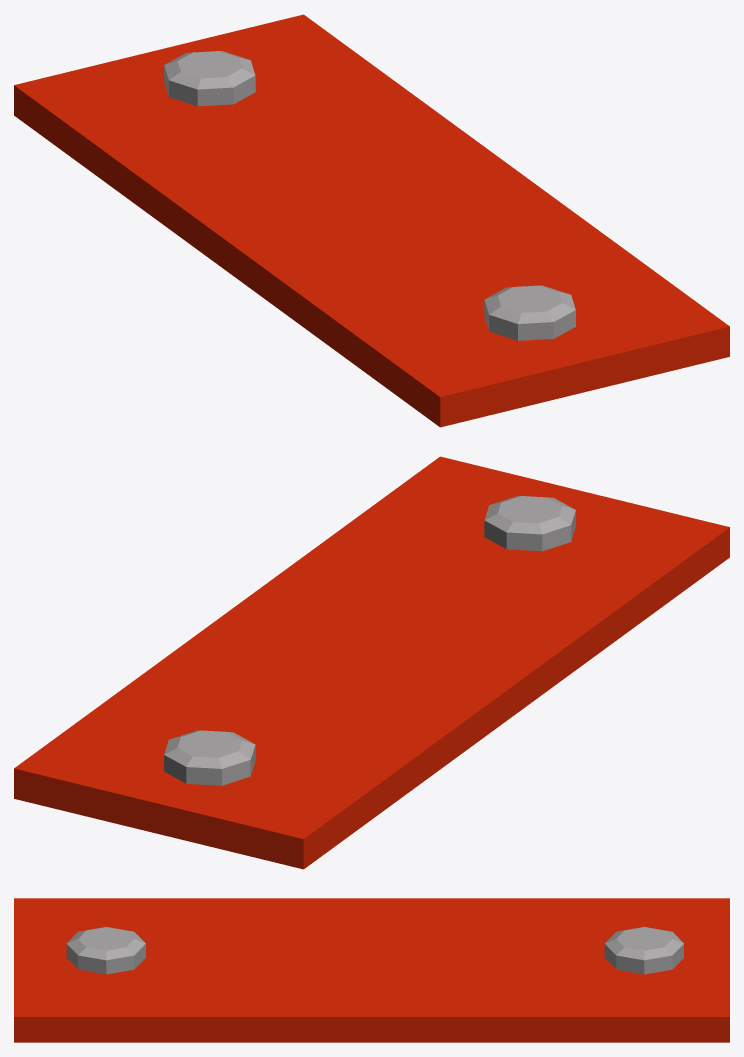
File: Xylophone_02.fbx
The picture shows the model from 3 angles, top to bottom: view 1: azimuth 30°, elevation 25°; view 2: azimuth 150°, elevation 25°; view 3: azimuth 270°, elevation 25°; orthographic projection. The views are drawn at different scales.
Visible parts, largest first — view 1: Xylophone_02; view 2: Xylophone_02; view 3: Xylophone_02.
Boxes of the visible parts, left/top/right/bottom form: Xylophone_02: left=14, top=14, right=729, bottom=427; Xylophone_02: left=14, top=456, right=729, bottom=869; Xylophone_02: left=14, top=898, right=729, bottom=1042.
Size of the model in its own units: 100 by 17.38 by 255.
